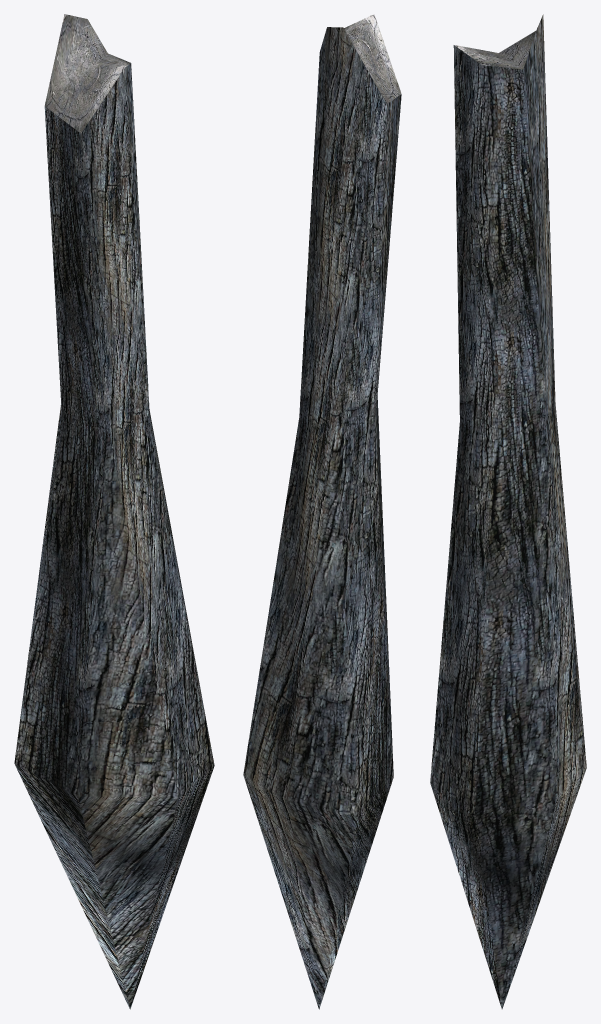
File: decd_scorched_tallbirch_broke_l1.fbx
The picture shows the model from 3 angles, left to right: view 1: azimuth 30°, elevation 25°; view 2: azimuth 150°, elevation 25°; view 3: azimuth 270°, elevation 25°; orthographic projection. The views are drawn at different scales.
Parts seen in each view (by area): view 1: mesh_node; view 2: mesh_node; view 3: mesh_node.
Part boxes in pixels (x1,y1,x2,y2): mesh_node: (14, 14, 214, 1009); mesh_node: (243, 14, 401, 1009); mesh_node: (430, 14, 586, 1009).
Size of the model in its own units: 3.01 by 19.27 by 2.81.
2 materials, 2 textured.
